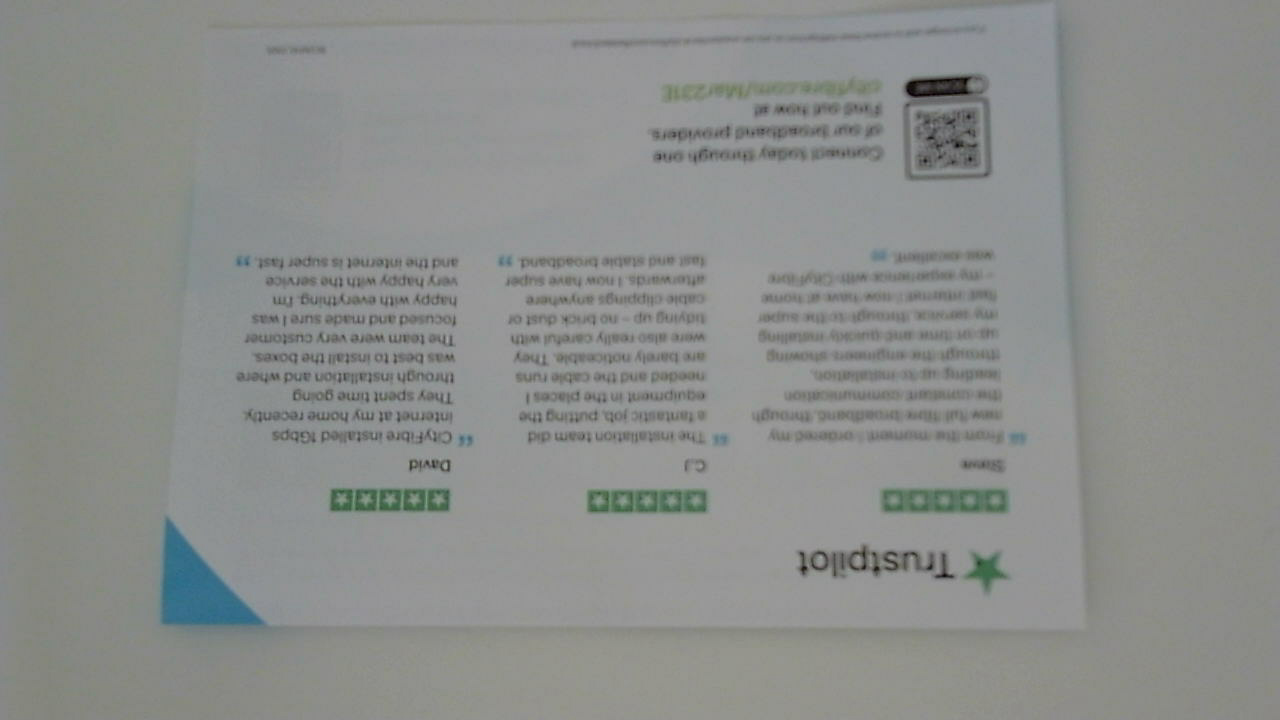Mixed Paper: (160, 3, 1087, 652)
